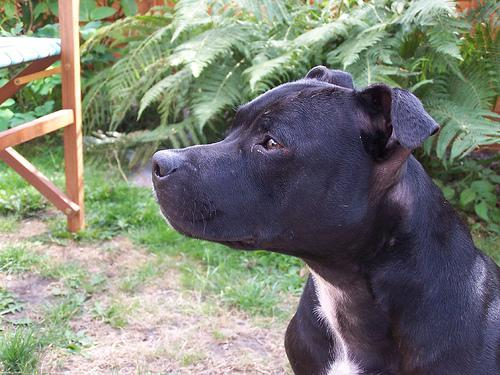dog-staffordshire_bull_terrier: (150, 64, 439, 249)
